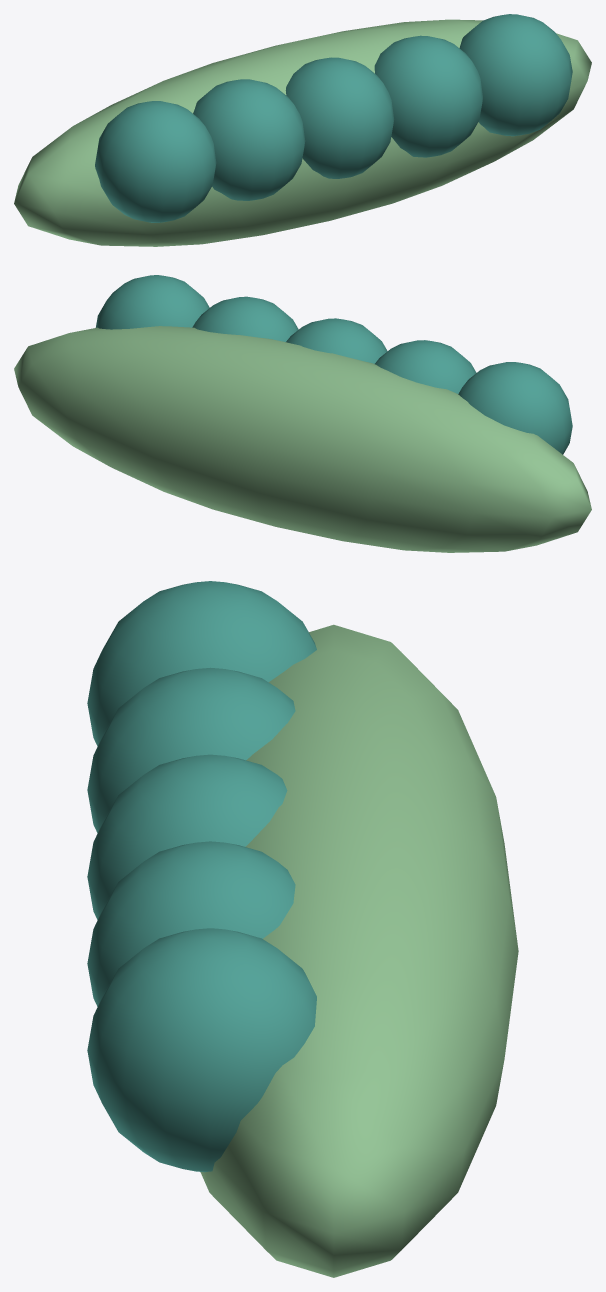
Rendered from word-peas.glb.
3 views of the same model, one above another, from view 1: azimuth 30°, elevation 25°; view 2: azimuth 150°, elevation 25°; view 3: azimuth 270°, elevation 25° (orthographic). The views are drawn at different scales.
Parts seen in each view (by area): view 1: open pea pod, pea, pea.004, pea.001, pea.003, pea.002; view 2: open pea pod, pea, pea.004, pea.001, pea.003, pea.002; view 3: open pea pod, pea.004, pea, pea.003, pea.001, pea.002.
Boxes of the visible parts, left/top/right/bottom form: open pea pod: left=14, top=19, right=591, bottom=246; pea: left=95, top=101, right=216, bottom=222; pea.004: left=459, top=14, right=572, bottom=136; pea.001: left=193, top=79, right=305, bottom=200; pea.003: left=374, top=35, right=482, bottom=157; pea.002: left=285, top=57, right=394, bottom=178; open pea pod: left=14, top=326, right=591, bottom=552; pea: left=458, top=362, right=572, bottom=454; pea.004: left=95, top=275, right=209, bottom=329; pea.001: left=375, top=340, right=476, bottom=393; pea.003: left=192, top=296, right=298, bottom=341; pea.002: left=286, top=318, right=387, bottom=363; open pea pod: left=200, top=624, right=518, bottom=1277; pea.004: left=87, top=928, right=316, bottom=1172; pea: left=87, top=581, right=316, bottom=746; pea.003: left=87, top=841, right=295, bottom=1006; pea.001: left=87, top=667, right=295, bottom=832; pea.002: left=87, top=754, right=287, bottom=919.
Size of the model in its own units: 1.3 by 0.38 by 0.42.
